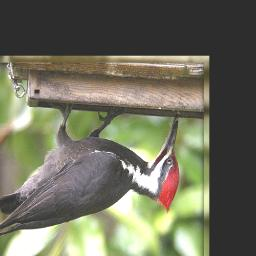Woodpecker: (0, 106, 180, 241)
